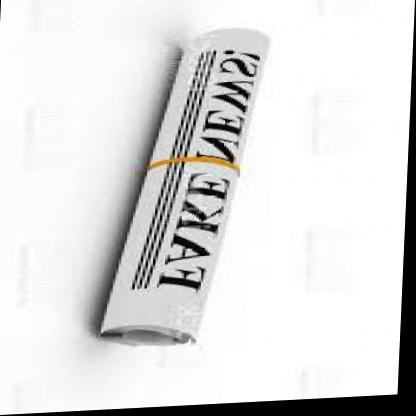Paper: (61, 0, 297, 380)
